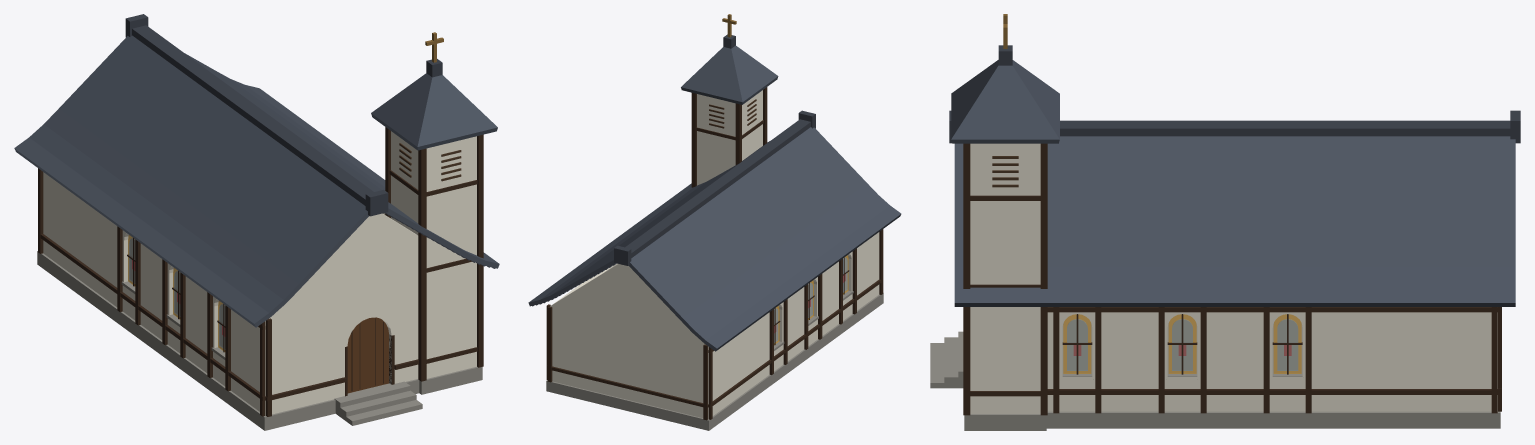
Rendered from church_shell.fbx.
The picture shows the model from 3 angles, left to right: view 1: azimuth 30°, elevation 25°; view 2: azimuth 150°, elevation 25°; view 3: azimuth 270°, elevation 25°; orthographic projection. The views are drawn at different scales.
Visible parts, largest first — view 1: Church_Roof, Church_Plaster, Church_Timber, Church_Stone, Church_Ridge, Church_Door_L, Church_Door_R, Church_Glass_Gold, Church_Glass_Blue, Church_Louvre; view 2: Church_Roof, Church_Plaster, Church_Timber, Church_Stone, Church_Ridge, Church_Glass_Gold, Church_Glass_Blue; view 3: Church_Roof, Church_Plaster, Church_Timber, Church_Stone, Church_Ridge, Church_Glass_Gold, Church_Glass_Blue.
Part boxes in pixels (<box>): Church_Roof: <box>14,35,499,327</box>; Church_Plaster: <box>43,131,476,415</box>; Church_Timber: <box>38,127,483,416</box>; Church_Stone: <box>37,251,482,430</box>; Church_Ridge: <box>125,14,495,280</box>; Church_Door_L: <box>367,317,388,388</box>; Church_Door_R: <box>347,319,367,393</box>; Church_Glass_Gold: <box>128,235,225,351</box>; Church_Glass_Blue: <box>129,238,225,349</box>; Church_Louvre: <box>399,143,461,181</box>; Church_Roof: <box>528,45,901,351</box>; Church_Plaster: <box>550,90,879,419</box>; Church_Timber: <box>546,87,883,420</box>; Church_Stone: <box>546,290,883,430</box>; Church_Ridge: <box>532,34,815,306</box>; Church_Glass_Gold: <box>774,255,848,344</box>; Church_Glass_Blue: <box>774,257,847,342</box>; Church_Roof: <box>951,60,1515,306</box>; Church_Plaster: <box>970,143,1497,413</box>; Church_Timber: <box>963,143,1501,415</box>; Church_Stone: <box>930,315,1500,430</box>; Church_Ridge: <box>949,45,1520,143</box>; Church_Glass_Gold: <box>1063,314,1301,373</box>; Church_Glass_Blue: <box>1067,319,1298,370</box>.
Bounding box in the file's own units: 37.79 × 50.2 × 67.4.
